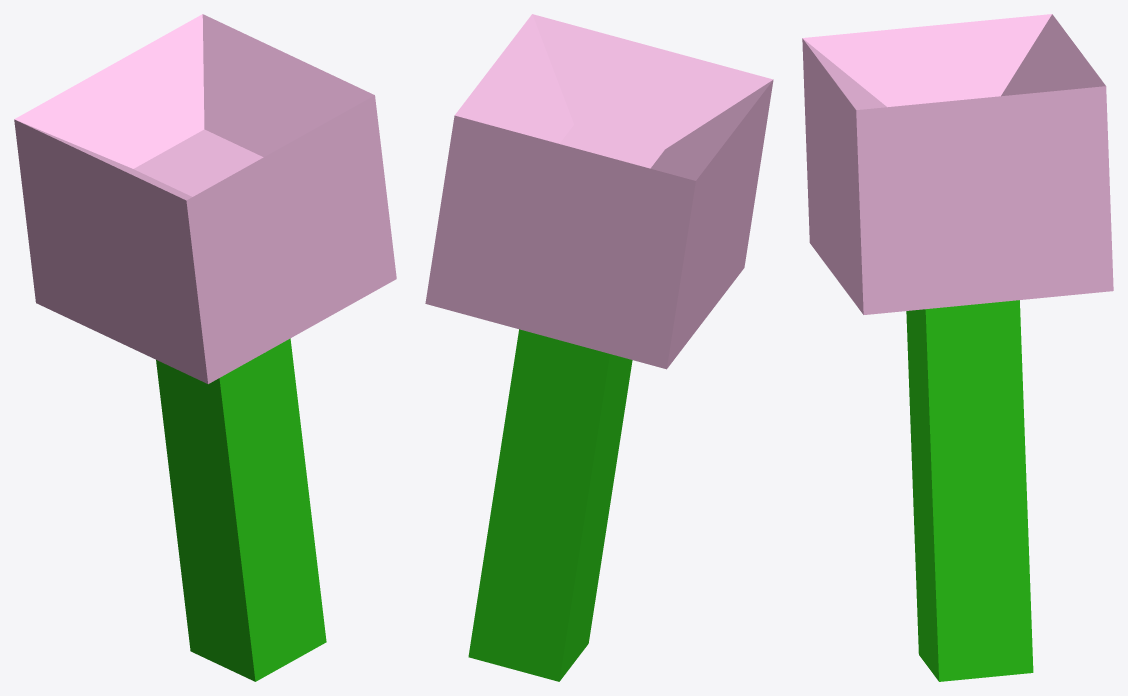
The model's file is tulip_pink.fbx.
The picture shows the model from 3 angles, left to right: view 1: azimuth 30°, elevation 25°; view 2: azimuth 150°, elevation 25°; view 3: azimuth 270°, elevation 25°; orthographic projection.
Visible parts, largest first — view 1: Cube.077; view 2: Cube.077; view 3: Cube.077.
Part boxes in pixels (x1=…): Cube.077: x1=14, y1=14, x2=396, y2=681; Cube.077: x1=425, y1=14, x2=773, y2=681; Cube.077: x1=802, y1=14, x2=1113, y2=681.
Size of the model in its own units: 25.65 by 50.12 by 24.02.
1 material, 1 textured.
